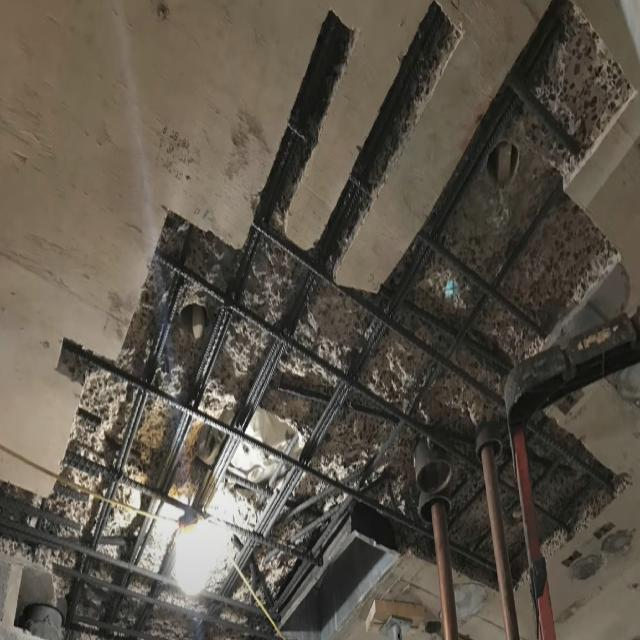Spalling: (1, 4, 640, 640)
